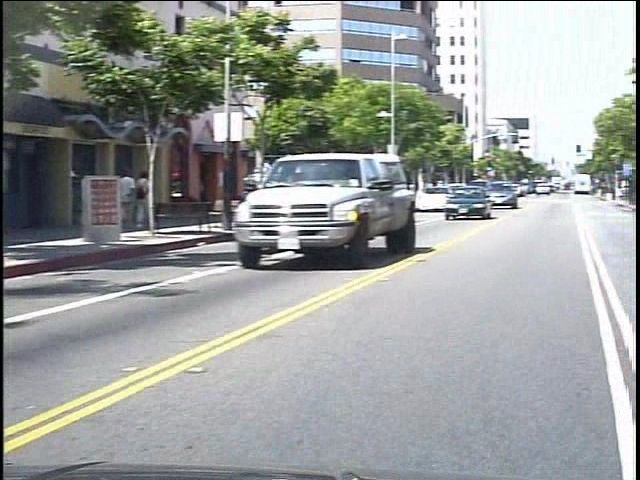person: (130, 167, 151, 231), (145, 169, 160, 233)
